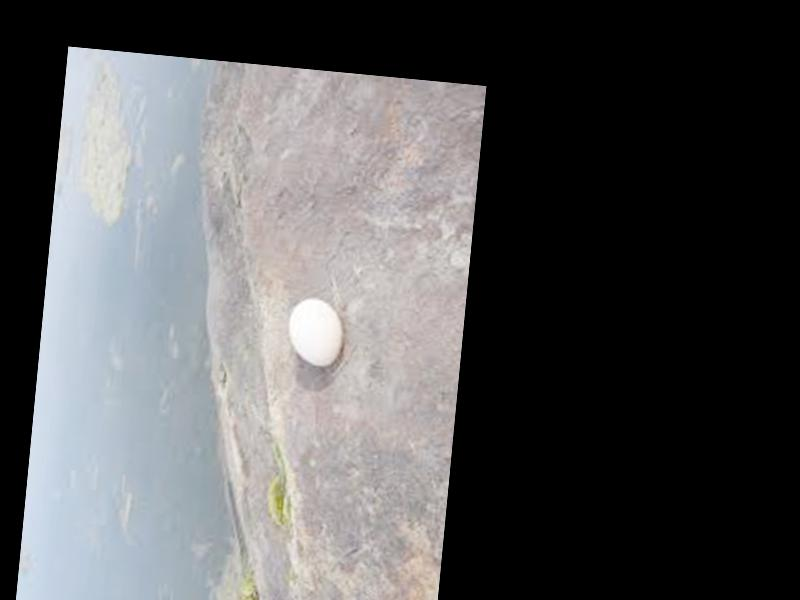Eggs: (284, 293, 344, 367)
